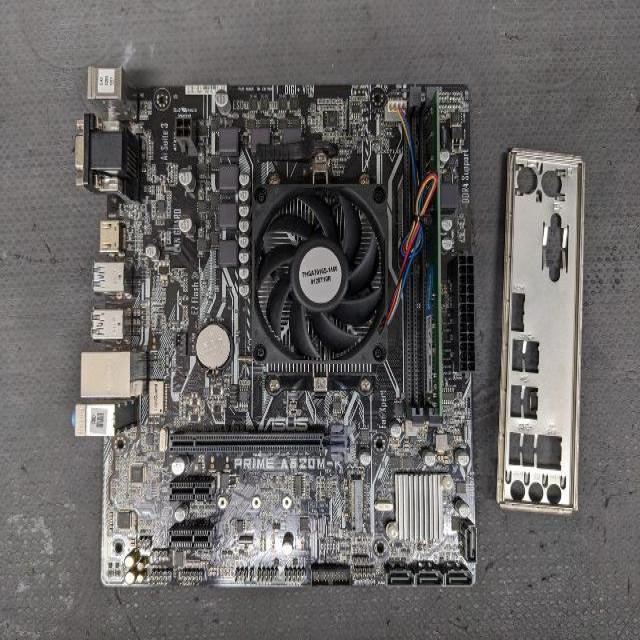CPU_Fan: (250, 182, 390, 365)
